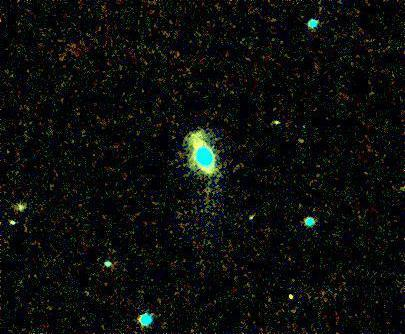star: (278, 280, 308, 310)
